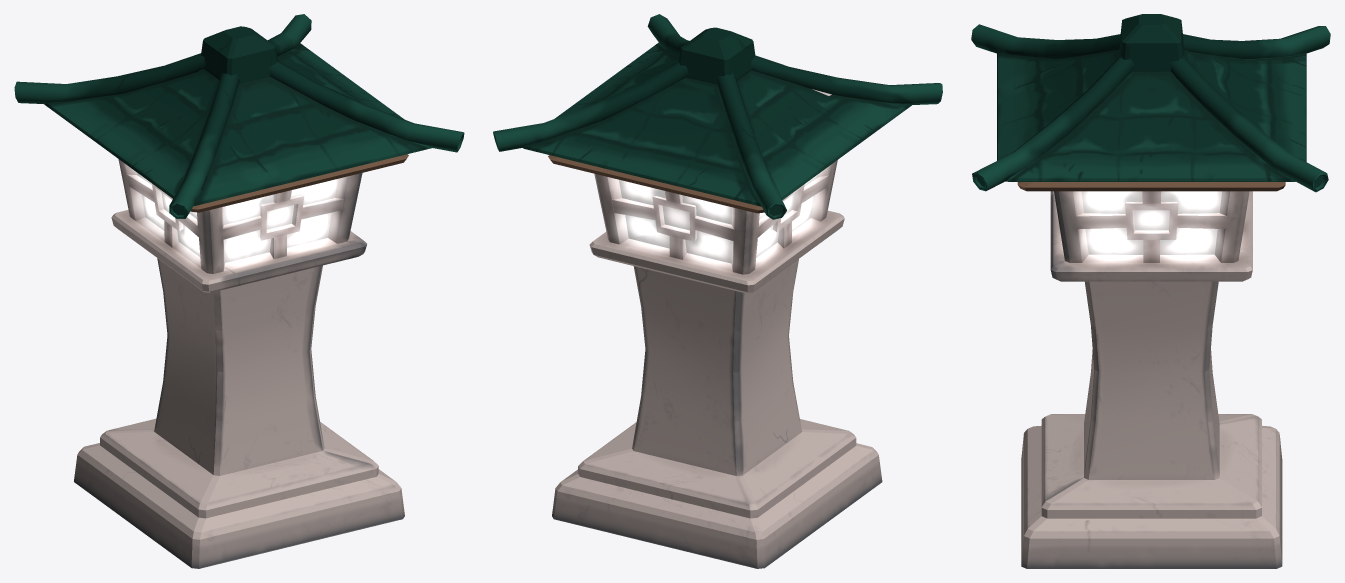
The model's file is Lantern07.fbx.
3 renders of one model, left to right at view 1: azimuth 30°, elevation 25°; view 2: azimuth 150°, elevation 25°; view 3: azimuth 270°, elevation 25°, orthographic. The views are drawn at different scales.
Visible parts, largest first — view 1: Lantern07; view 2: Lantern07; view 3: Lantern07.
Part boxes in pixels (<box>): Lantern07: <box>14,14,464,568</box>; Lantern07: <box>493,14,942,568</box>; Lantern07: <box>971,14,1330,568</box>.
Bounding box in the file's own units: 133 × 200 × 132.
1 material, 1 textured.
